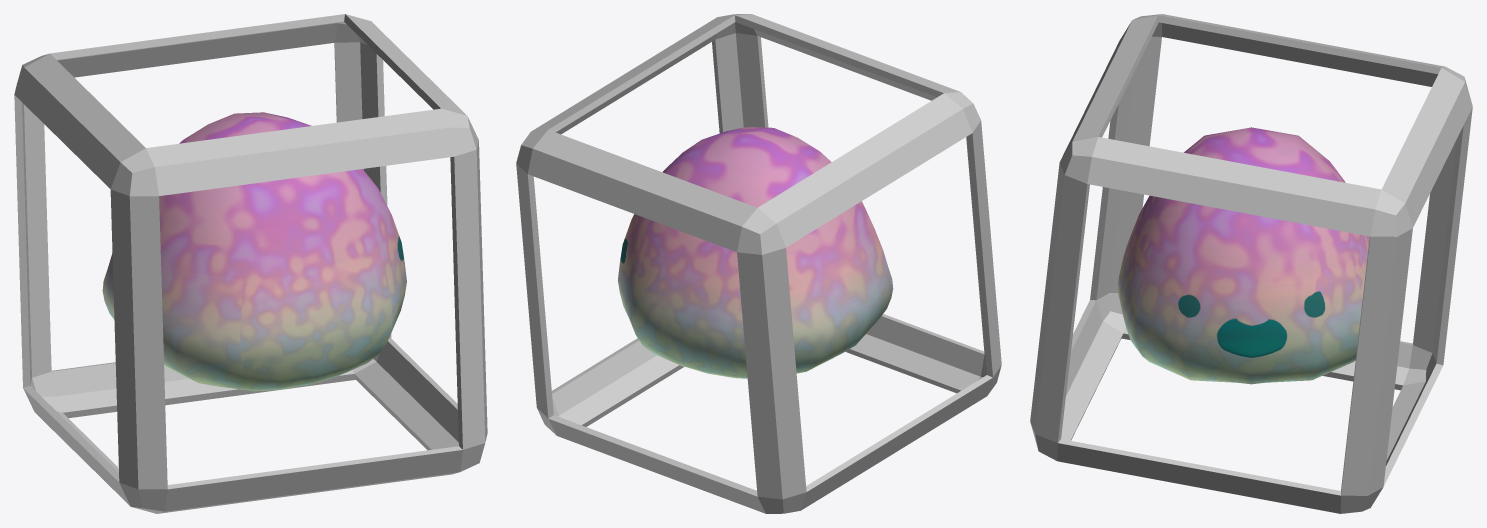
The model's file is RescaledCrystalSlime.fbx.
The picture shows the model from 3 angles, left to right: view 1: azimuth 30°, elevation 25°; view 2: azimuth 150°, elevation 25°; view 3: azimuth 270°, elevation 25°; orthographic projection. The views are drawn at different scales.
Parts seen in each view (by area): view 1: Lucky Block, Slime Default; view 2: Lucky Block, Slime Default; view 3: Lucky Block, Slime Default.
Part boxes in pixels (left/top/right/bottom): Lucky Block: left=14, top=14, right=487, bottom=513; Slime Default: left=102, top=112, right=406, bottom=391; Lucky Block: left=516, top=14, right=1001, bottom=513; Slime Default: left=618, top=126, right=893, bottom=378; Lucky Block: left=1030, top=14, right=1472, bottom=513; Slime Default: left=1118, top=127, right=1369, bottom=384.
Bounding box in the file's own units: 22.65 × 21.07 × 23.74.
